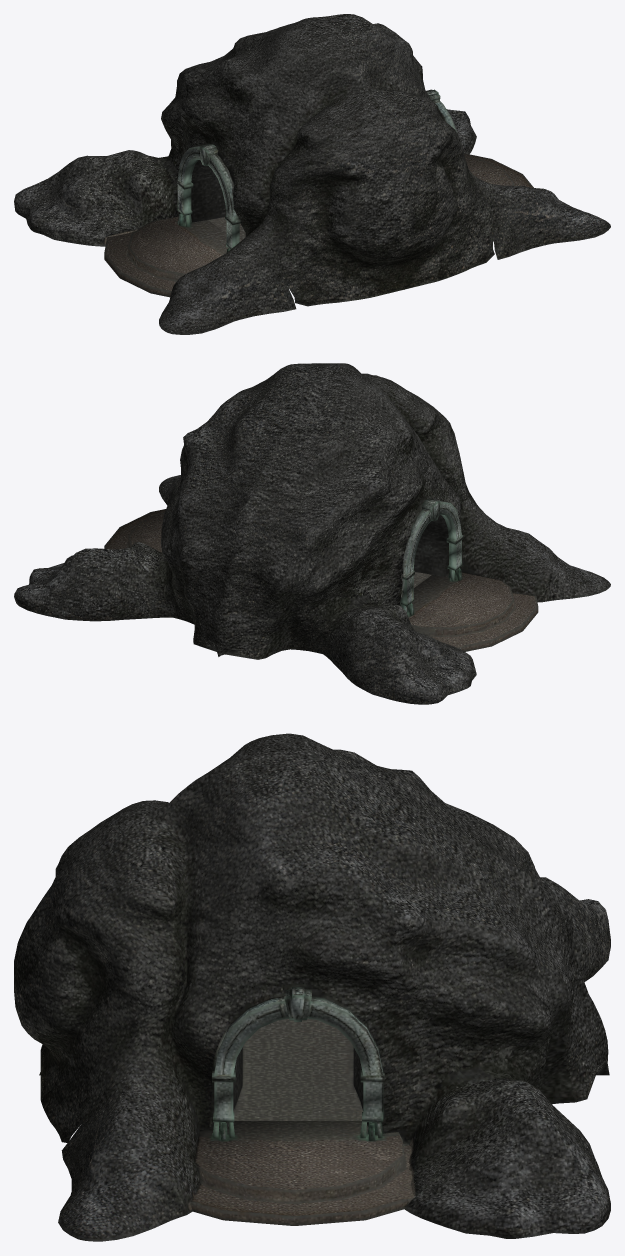
Rendered from ShyrackCaveEntranceMirrored.obj.
3 views of the same model, one above another, from view 1: azimuth 30°, elevation 25°; view 2: azimuth 150°, elevation 25°; view 3: azimuth 270°, elevation 25° (orthographic). The views are drawn at different scales.
Visible parts, largest first — view 1: ShyrackCaveEntranceMirrored; view 2: ShyrackCaveEntranceMirrored; view 3: ShyrackCaveEntranceMirrored.
Boxes of the visible parts, x1=… form: ShyrackCaveEntranceMirrored: x1=14, y1=14, x2=610, y2=334; ShyrackCaveEntranceMirrored: x1=14, y1=363, x2=610, y2=704; ShyrackCaveEntranceMirrored: x1=14, y1=733, x2=610, y2=1241.
Bounding box in the file's own units: 1 × 0.4487 × 0.7586.
Materials: 1 (1 with a texture image).
